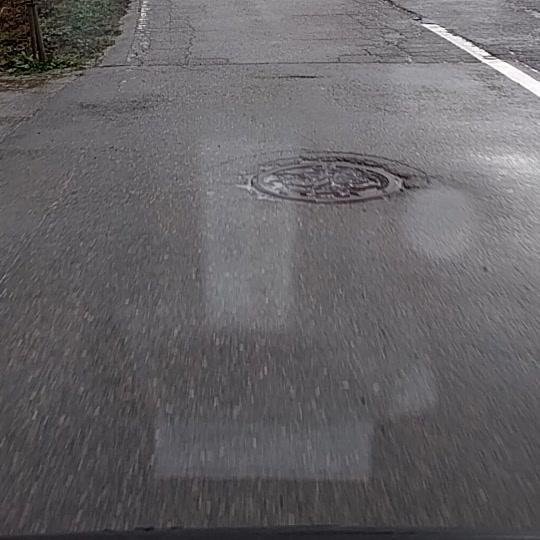D20: (319, 3, 456, 63), (144, 3, 234, 65)
D50: (252, 156, 396, 198)
